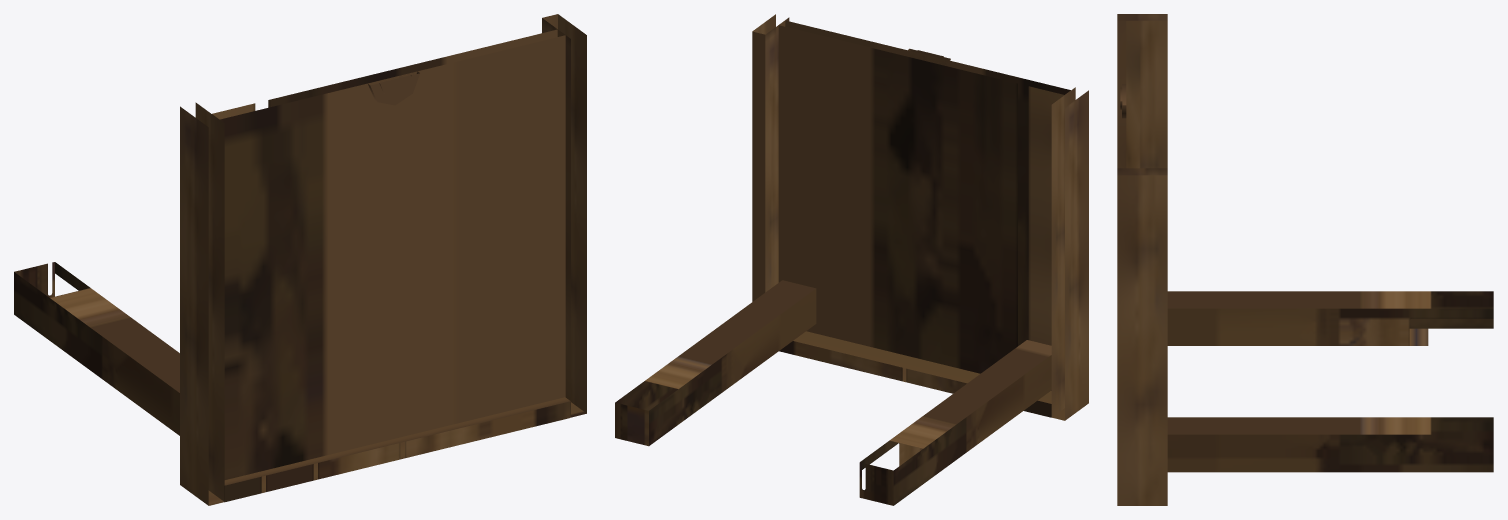
Rendered from section-3.obj.
The picture shows the model from 3 angles, left to right: view 1: azimuth 30°, elevation 25°; view 2: azimuth 150°, elevation 25°; view 3: azimuth 270°, elevation 25°; orthographic projection. The views are drawn at different scales.
Bounding box in the file's own units: 0.831 × 0.7955 × 0.82.
